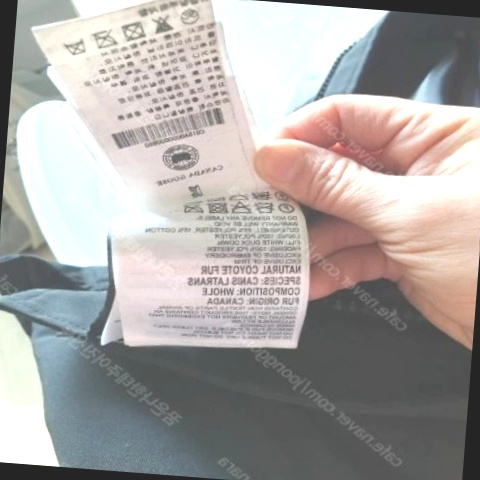DN_bleach: (151, 13, 175, 35), (228, 200, 252, 217)
DN_iron: (90, 25, 117, 51), (181, 200, 204, 217)
DN_tumble_dry: (117, 18, 147, 43), (205, 199, 230, 216)
DN_wash: (60, 35, 87, 57), (252, 201, 276, 216), (250, 188, 271, 204)
dry_clean: (178, 5, 201, 27)
dry_clean_any_solvent_except_trichloroethylene: (276, 202, 296, 215), (275, 188, 289, 202)
